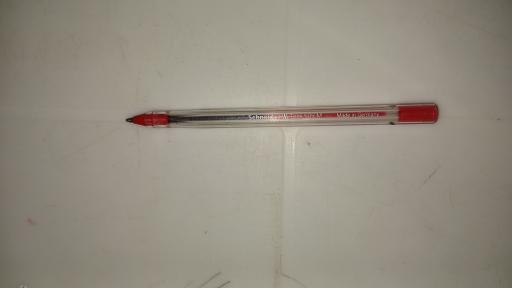pen: (125, 102, 438, 126)
